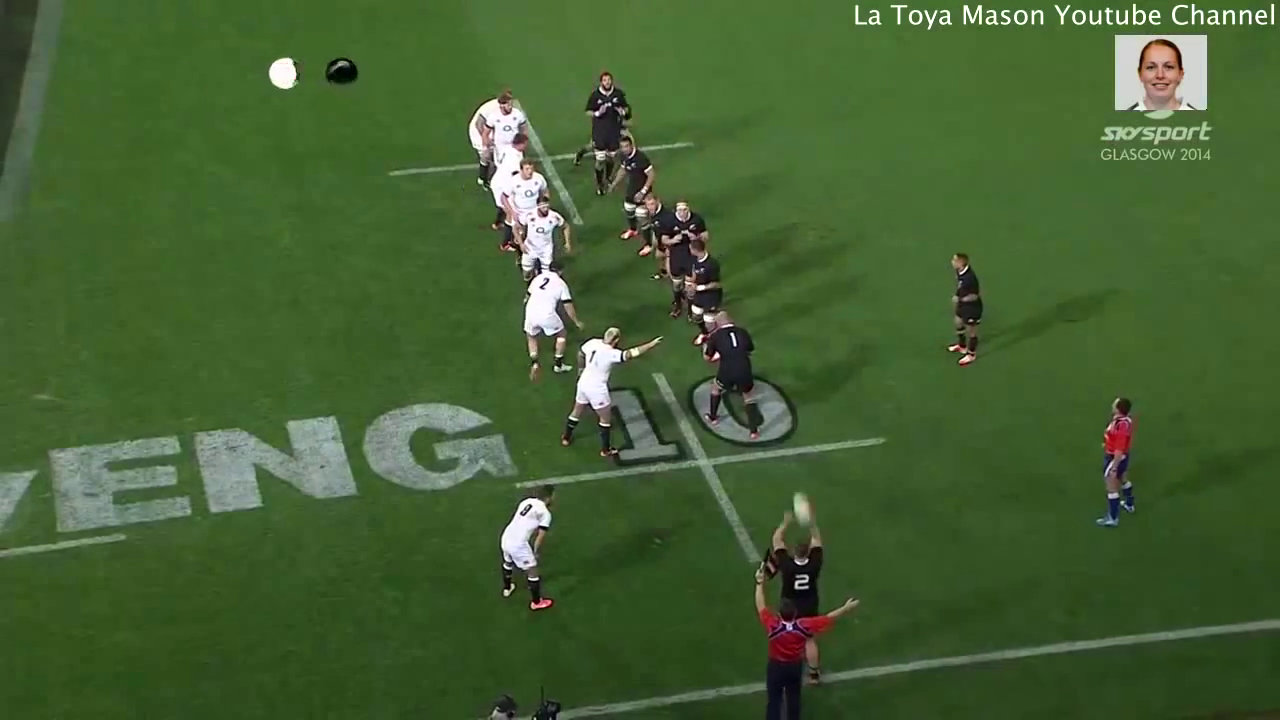10_metre: (504, 365, 896, 573), (378, 92, 701, 234)
ball: (787, 483, 822, 538)
lineout: (432, 45, 826, 467)
player: (746, 546, 863, 720), (760, 497, 837, 700), (554, 325, 665, 455), (694, 304, 767, 445), (497, 477, 565, 616), (1086, 388, 1142, 532), (523, 253, 583, 383), (657, 197, 710, 334), (584, 66, 633, 201), (505, 195, 571, 292), (941, 242, 989, 375), (484, 128, 533, 251), (463, 82, 511, 199), (500, 150, 548, 263), (613, 135, 655, 262), (687, 237, 726, 355), (479, 94, 534, 165), (638, 191, 674, 289)
